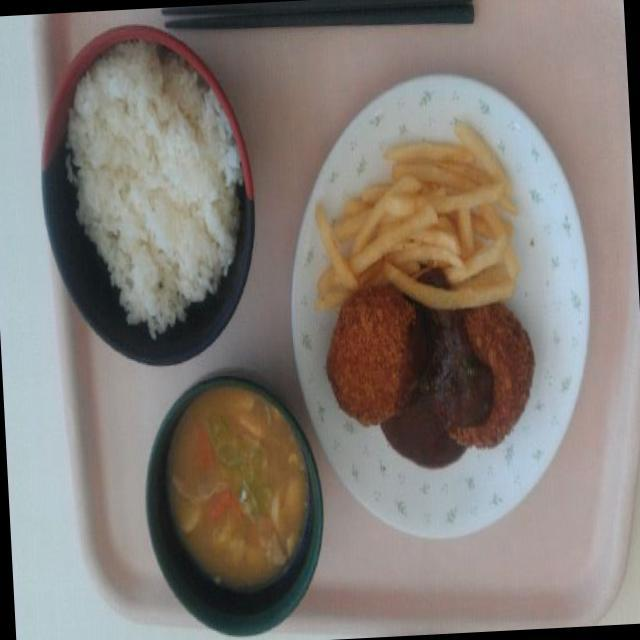Rice: (59, 118, 239, 352)
